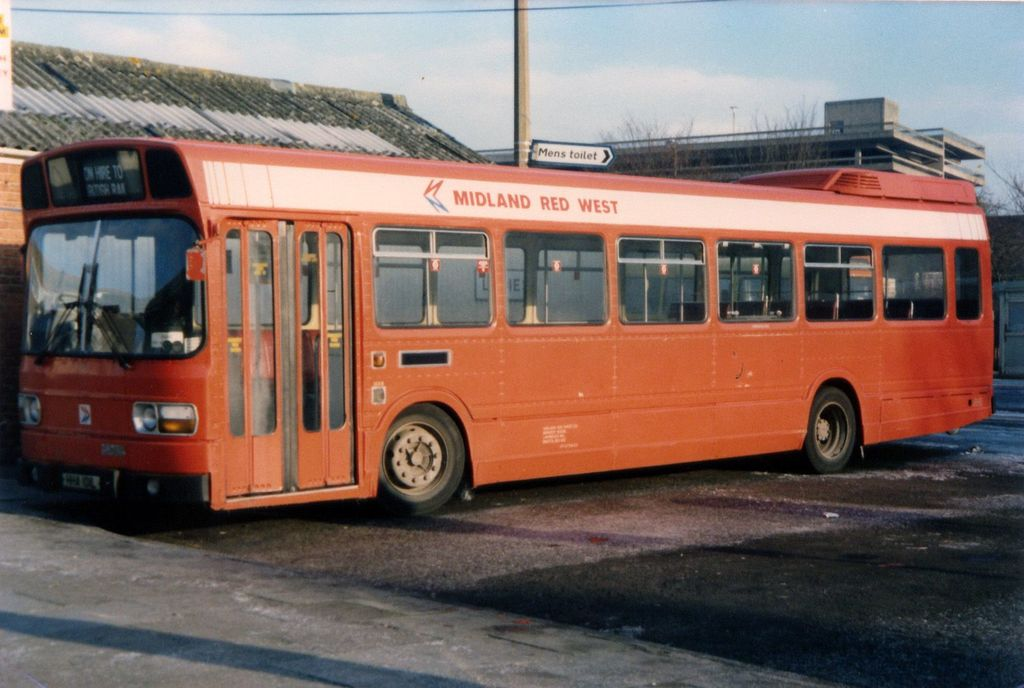Bus: (18, 133, 993, 518)
